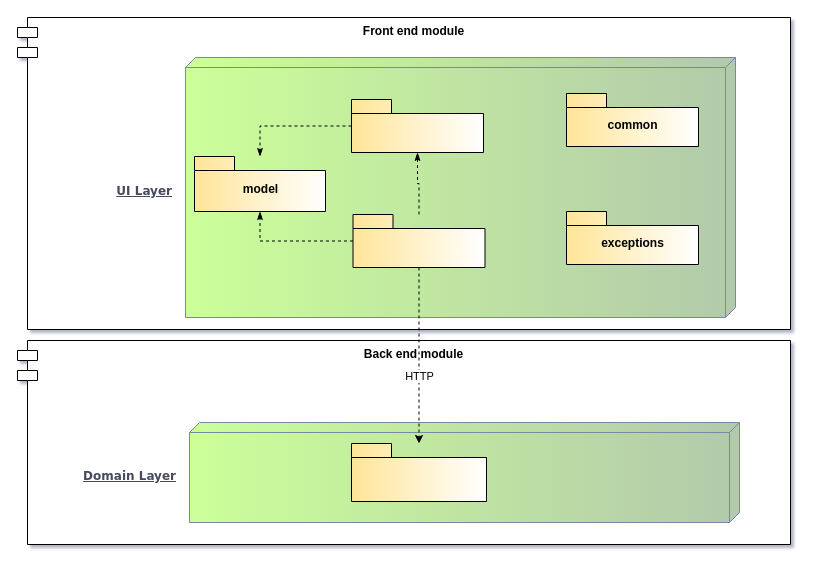
The diagram is 814 pixels wide and 568 high, and some of its shapes have lost their labels. Each missing label, with the centre of its shape:
"Controllers" belongs at pixel 418 472.
"services" belongs at pixel 418 241.
"views" belongs at pixel 417 125.
